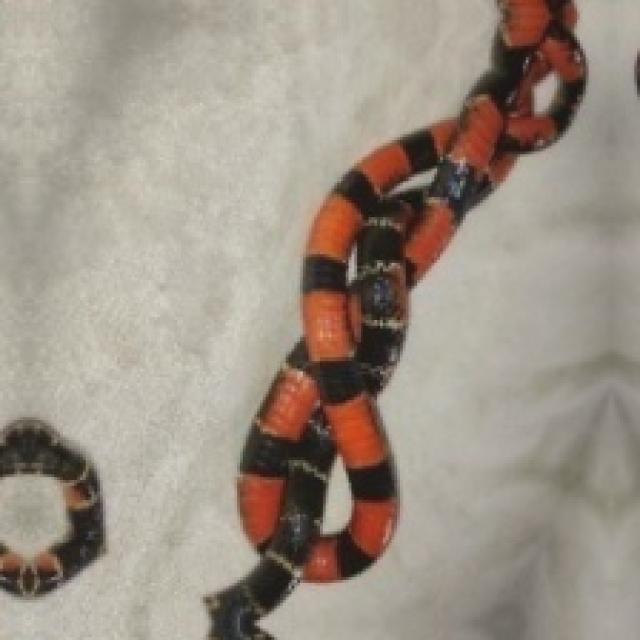barredcoral snake: (206, 0, 586, 637), (0, 417, 103, 594)
